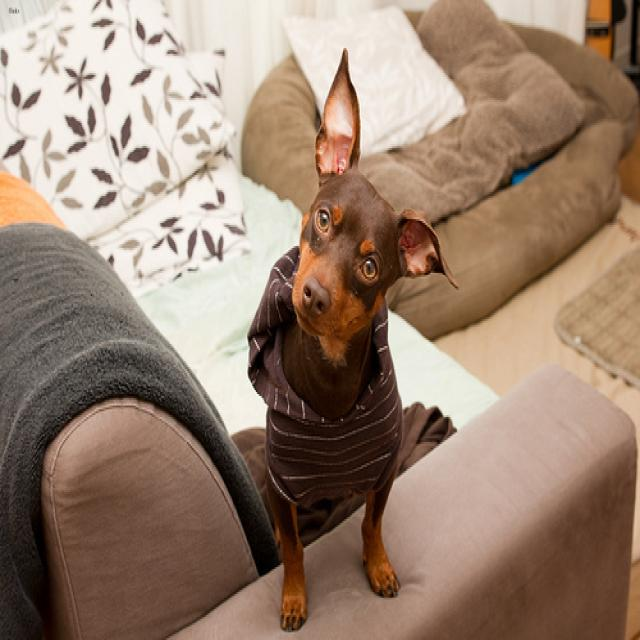dog-miniature_pinscher: (274, 40, 466, 431)
